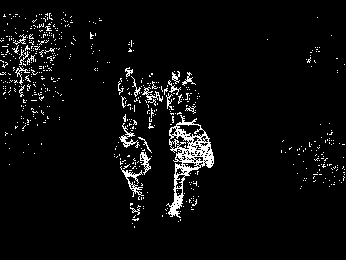person: (165, 110, 216, 229), (113, 117, 153, 228), (139, 70, 169, 128), (163, 66, 186, 126), (114, 67, 138, 117), (180, 68, 200, 125)
